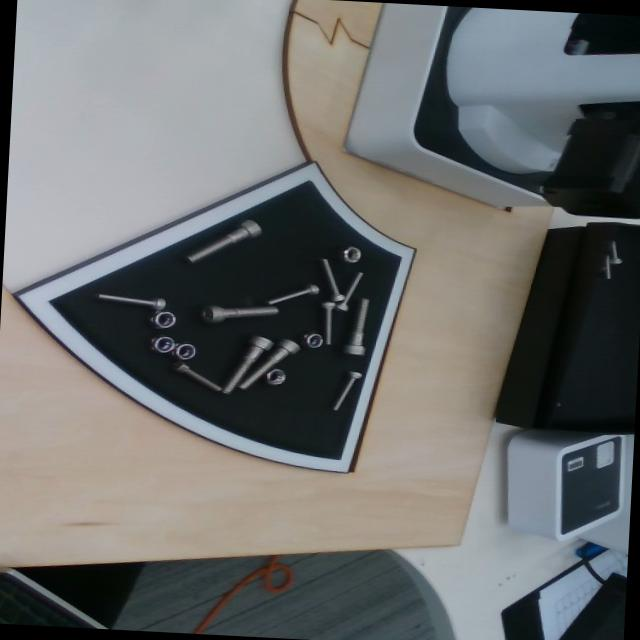big: (175, 209, 271, 270), (206, 321, 277, 398), (233, 333, 305, 408), (196, 298, 280, 327), (343, 292, 374, 359)
circle: (148, 309, 178, 332), (264, 366, 291, 391), (146, 334, 175, 357), (335, 243, 363, 266), (299, 331, 327, 354), (173, 342, 198, 363)
small: (171, 358, 226, 399), (326, 366, 364, 415), (263, 281, 322, 312), (332, 265, 366, 317), (95, 290, 168, 312), (317, 257, 348, 304), (322, 300, 337, 349)
